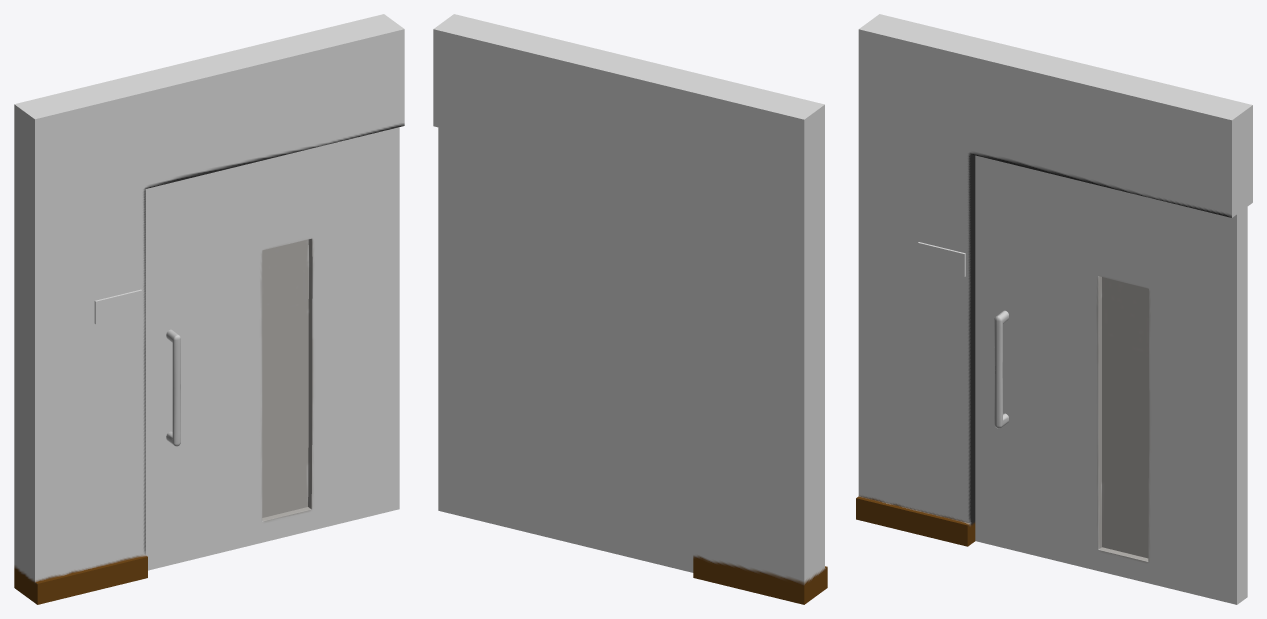
The model's file is BgMD_door2.fbx.
3 renders of one model, left to right at view 1: azimuth 30°, elevation 25°; view 2: azimuth 150°, elevation 25°; view 3: azimuth 330°, elevation 25°, orthographic.
Visible parts, largest first — view 1: pasted__pasted__pCube2; view 2: pasted__pasted__pCube2; view 3: pasted__pasted__pCube2.
Boxes of the visible parts, box(x1,y1,x2,y2) form: pasted__pasted__pCube2: box(14, 14, 404, 604); pasted__pasted__pCube2: box(433, 14, 827, 604); pasted__pasted__pCube2: box(856, 14, 1252, 604).
Bounding box in the file's own units: 200 × 250 × 22.38.
